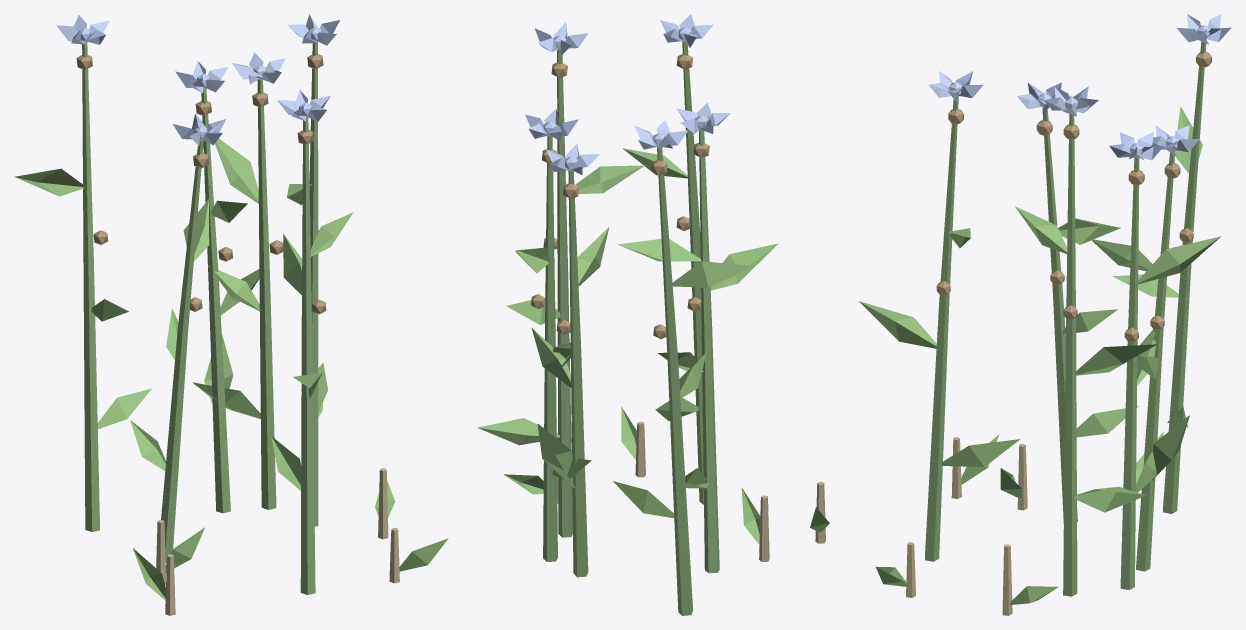
File: plant-flax-b_lod1.glb
The picture shows the model from 3 angles, left to right: view 1: azimuth 30°, elevation 25°; view 2: azimuth 150°, elevation 25°; view 3: azimuth 270°, elevation 25°; orthographic projection.
Visible parts, largest first — view 1: plant-flax-b_full_stemGreen, plant-flax-b_full_leafB, plant-flax-b_fruit_flaxFlower, plant-flax-b_low_stemDry, plant-flax-b_low_leafB, plant-flax-b_fruit_podBrown; view 2: plant-flax-b_full_stemGreen, plant-flax-b_full_leafB, plant-flax-b_fruit_flaxFlower, plant-flax-b_fruit_podBrown, plant-flax-b_low_leafB, plant-flax-b_low_stemDry; view 3: plant-flax-b_full_stemGreen, plant-flax-b_full_leafB, plant-flax-b_fruit_flaxFlower, plant-flax-b_fruit_podBrown, plant-flax-b_low_stemDry, plant-flax-b_low_leafB.
Part boxes in pixels (left/top/right/bottom): plant-flax-b_full_stemGreen: left=82, top=41, right=318, bottom=594; plant-flax-b_full_leafB: left=14, top=138, right=353, bottom=490; plant-flax-b_fruit_flaxFlower: left=56, top=14, right=339, bottom=145; plant-flax-b_low_stemDry: left=156, top=468, right=399, bottom=615; plant-flax-b_low_leafB: left=133, top=480, right=448, bottom=600; plant-flax-b_fruit_podBrown: left=76, top=54, right=326, bottom=314; plant-flax-b_full_stemGreen: left=543, top=40, right=719, bottom=615; plant-flax-b_full_leafB: left=477, top=148, right=778, bottom=518; plant-flax-b_fruit_flaxFlower: left=525, top=14, right=730, bottom=174; plant-flax-b_fruit_podBrown: left=531, top=54, right=709, bottom=339; plant-flax-b_low_leafB: left=503, top=407, right=829, bottom=544; plant-flax-b_low_stemDry: left=556, top=421, right=825, bottom=561; plant-flax-b_full_stemGreen: left=925, top=39, right=1206, bottom=596; plant-flax-b_full_leafB: left=859, top=106, right=1221, bottom=512; plant-flax-b_fruit_flaxFlower: left=929, top=14, right=1231, bottom=160; plant-flax-b_fruit_podBrown: left=936, top=52, right=1211, bottom=342; plant-flax-b_low_stemDry: left=906, top=437, right=1027, bottom=615; plant-flax-b_low_leafB: left=876, top=434, right=1058, bottom=604.
Size of the model in its own units: 0.7752 by 1.19 by 0.8039.
